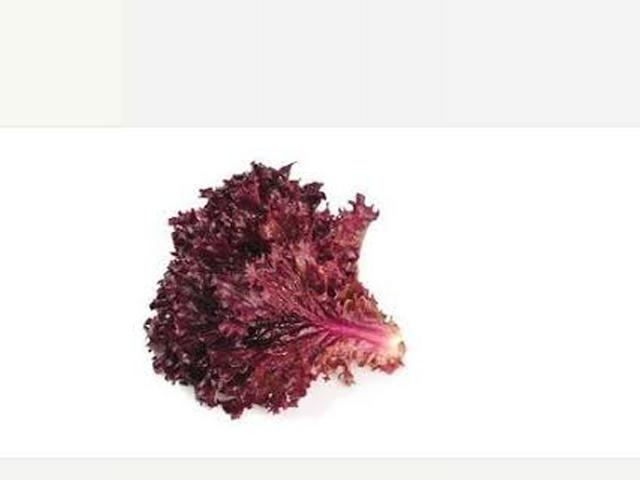lettuce: (130, 155, 430, 406)
